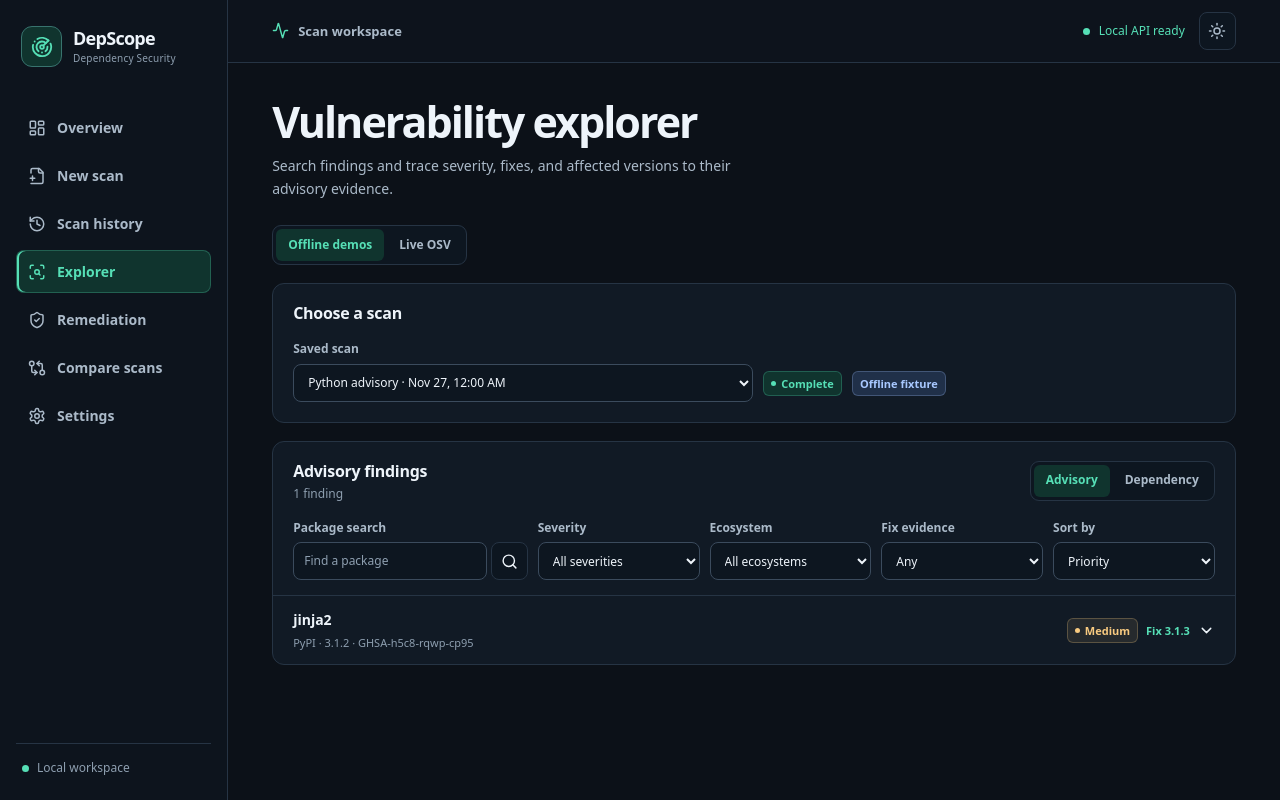
Test case: History and vulnerability explorer › renders advisory evidence, blocks unsafe references, and searches and sorts the saved results
This screenshot has width=1280, height=800.
Click the text "jinja2" at {"x": 312, "y": 620}, box 293,610 -> 332,630
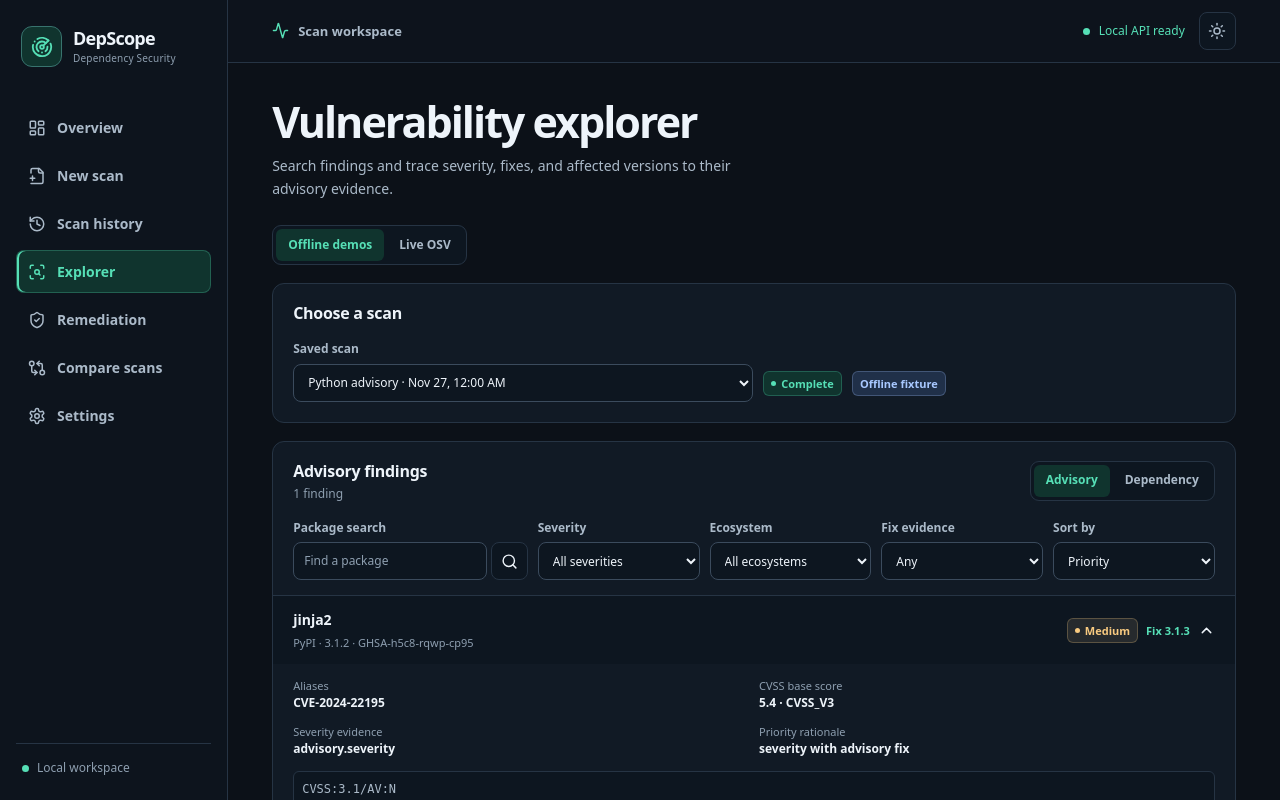
Now the text "CVE-2024-22195" is shown, box 293,694 -> 385,711
Now the text "5.4 · CVSS_V3" is shown, box 759,694 -> 834,711
Select "Package name" in the dropdown labelled "Sort by" at {"x": 1134, "y": 562}, box 1053,542 -> 1215,580
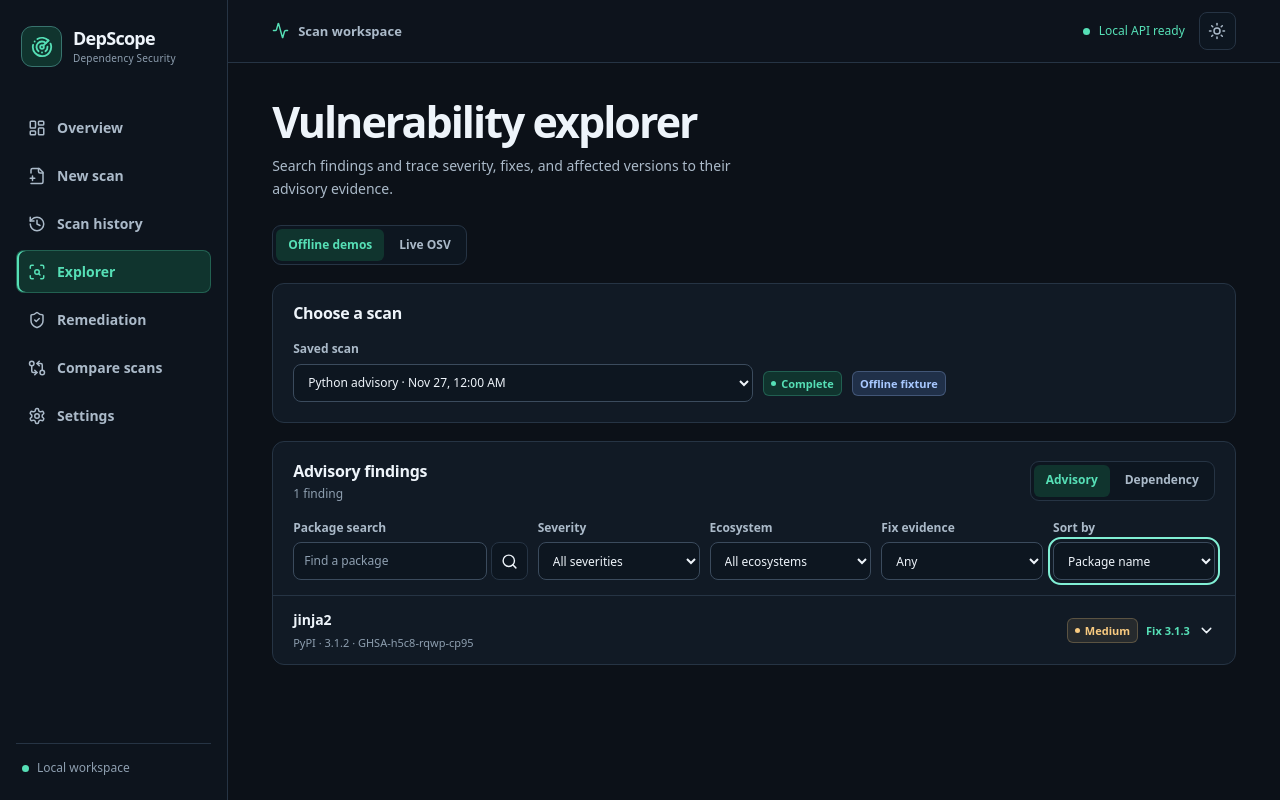
Type "missing & private" into the search field labelled "Package search" at {"x": 390, "y": 562}, box 293,542 -> 487,580
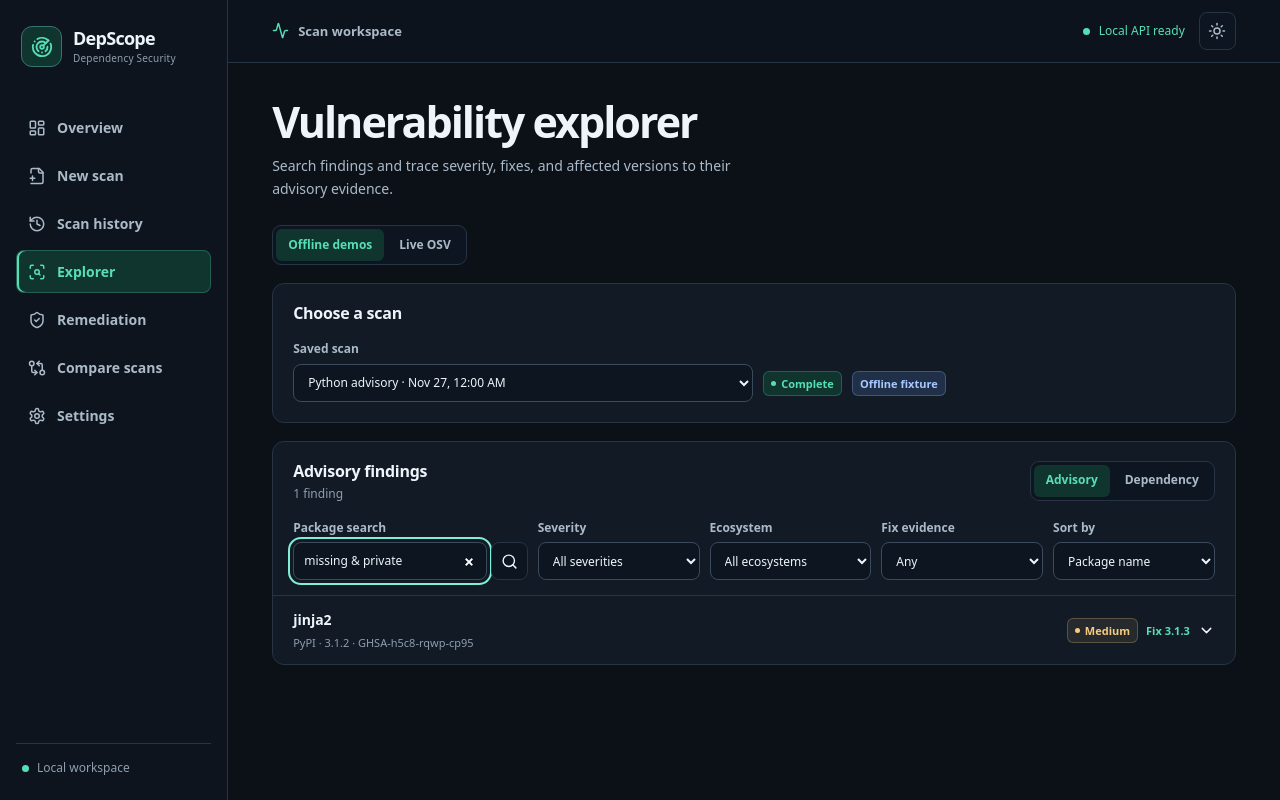
Click the button named "Search packages" at {"x": 509, "y": 562}, box 491,542 -> 528,580
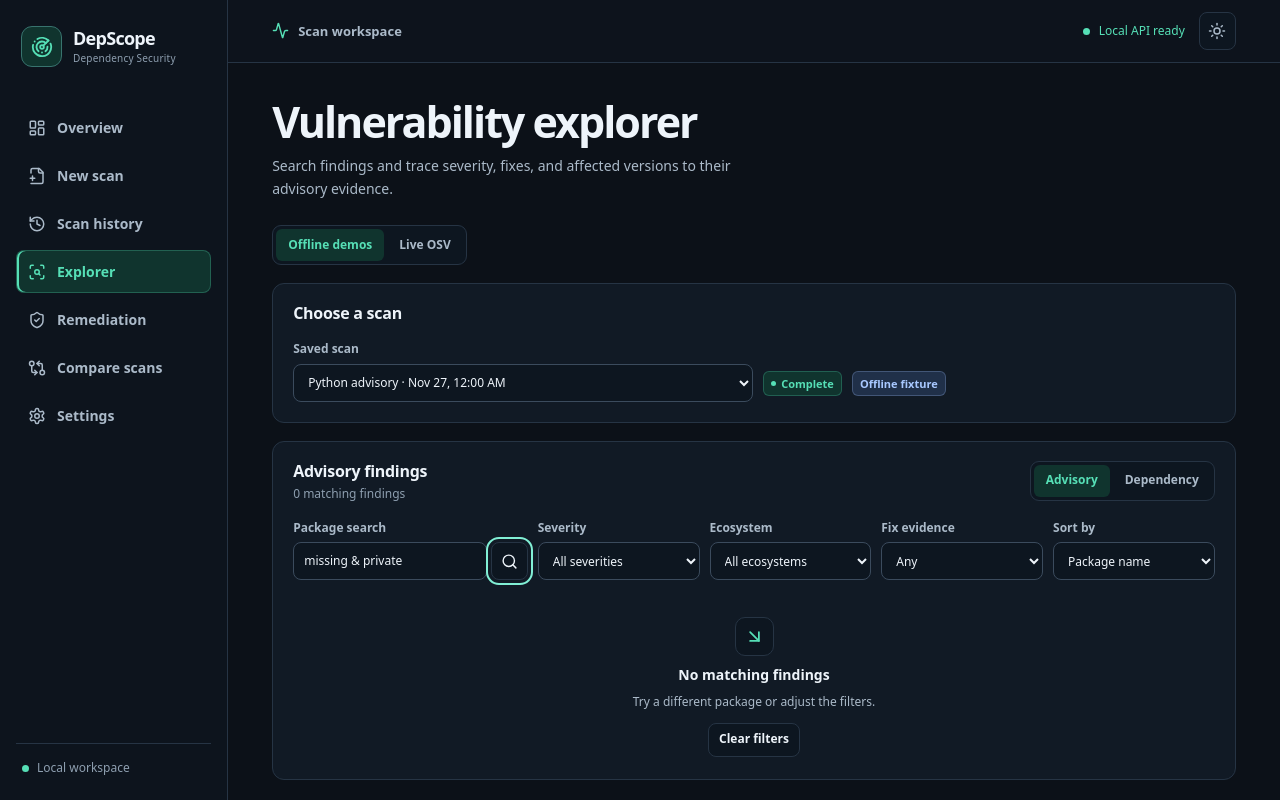
Now the heading "No matching findings" is shown, box 678,664 -> 830,686
Click the button "Clear filters" at {"x": 754, "y": 740}, box 708,723 -> 800,757
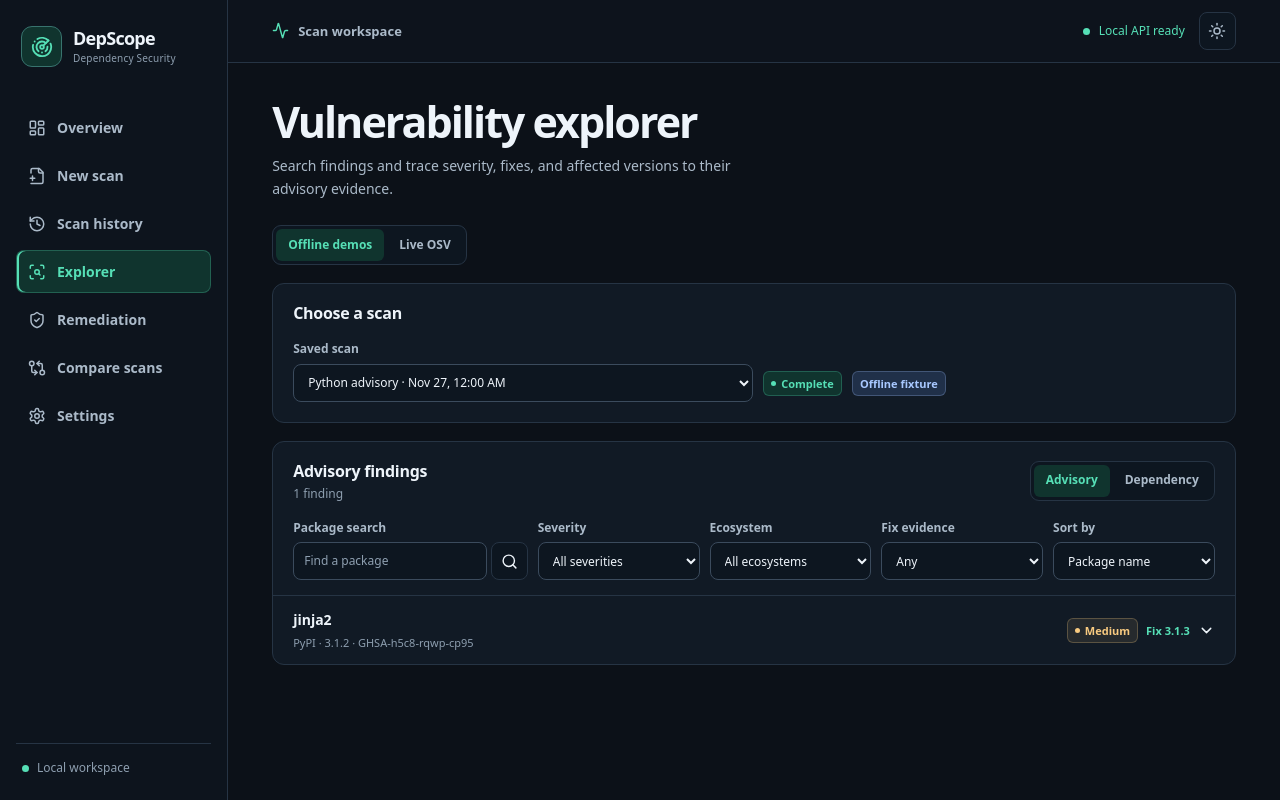
Now the text "jinja2" is shown, box 293,610 -> 332,630
